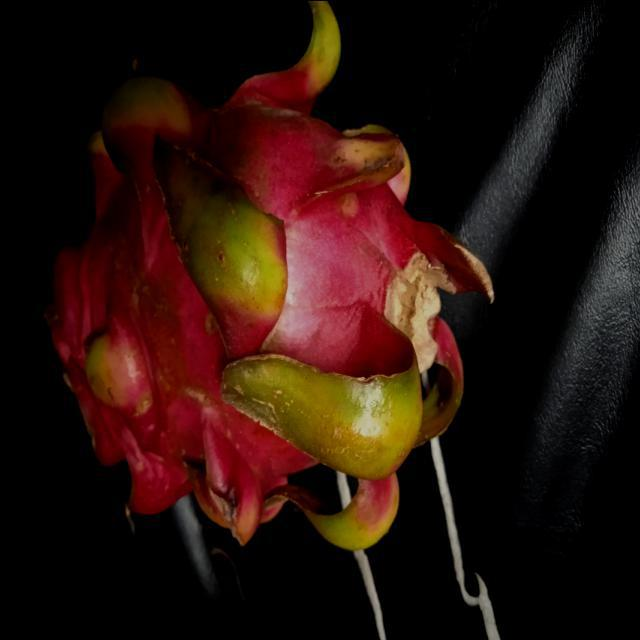do: (42, 1, 500, 552)
